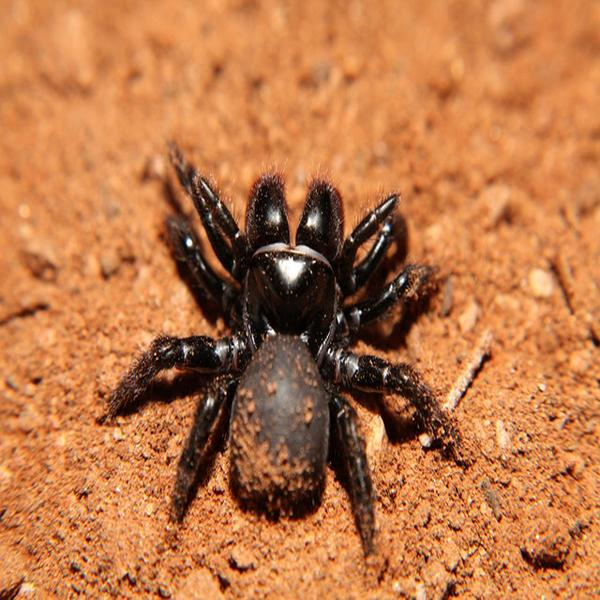Red Headed Mouse Spider: (127, 165, 456, 536)
